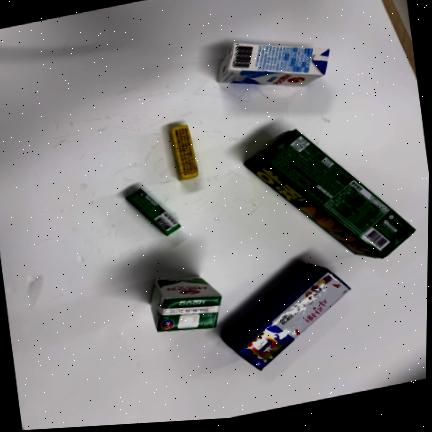cracker_ace: (218, 264, 350, 370)
cracker_vege: (241, 129, 416, 258)
gum_green: (126, 187, 181, 237)
gum_yellow: (166, 125, 199, 181)
milk_blue: (217, 41, 330, 88)
milk_green: (148, 276, 222, 332)
